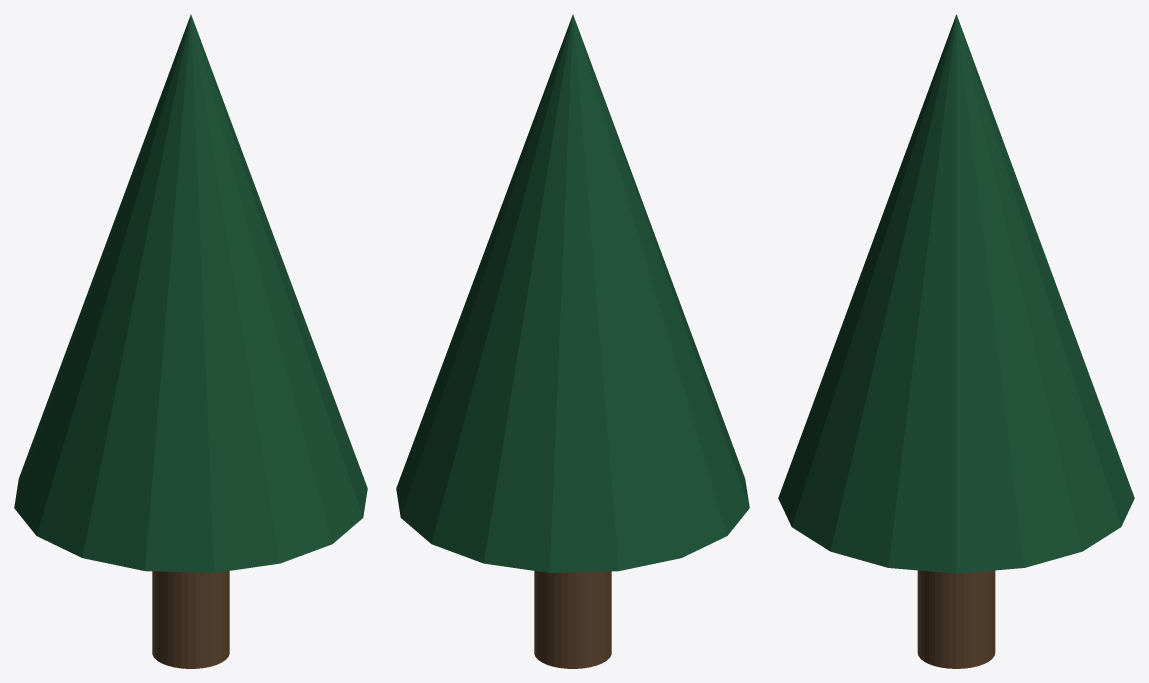
The model's file is minipinetree.glb.
3 views of the same model, side by side, from view 1: azimuth 30°, elevation 25°; view 2: azimuth 150°, elevation 25°; view 3: azimuth 270°, elevation 25° (orthographic).
Parts seen in each view (by area): view 1: Cone.011, Cylinder.018; view 2: Cone.011, Cylinder.018; view 3: Cone.011, Cylinder.018.
Part boxes in pixels (x1,y1,x2,y2): Cone.011: (14,14,367,572); Cylinder.018: (152,571,229,668); Cone.011: (396,14,749,572); Cylinder.018: (534,571,611,668); Cone.011: (778,14,1134,573); Cylinder.018: (917,570,995,668).
Bounding box in the file's own units: 0.6927 × 1.37 × 0.6927.
